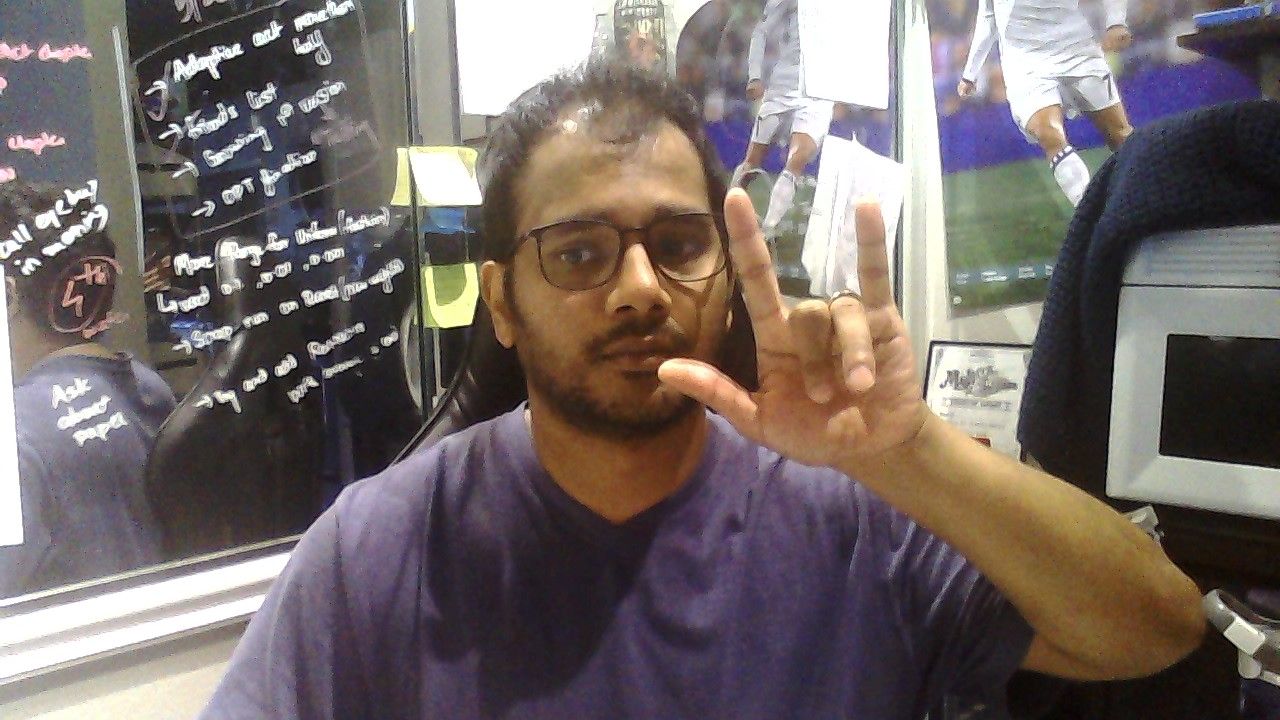ILoveYou: (658, 185, 922, 468)
